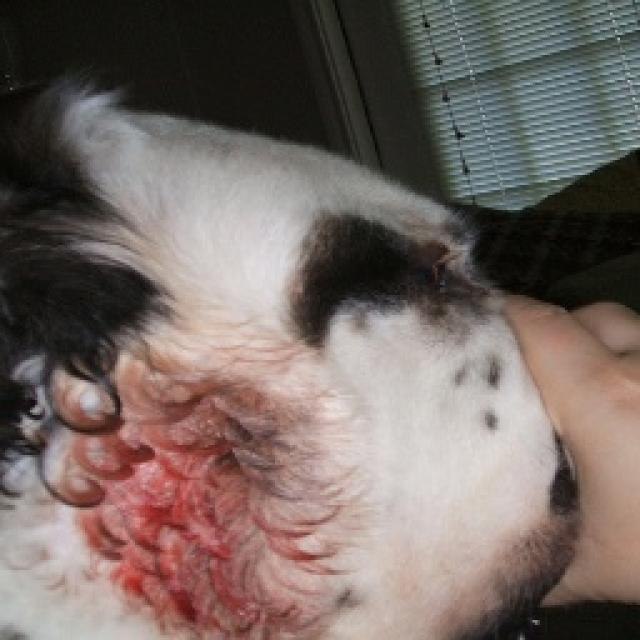hotspot: (98, 381, 247, 626)
